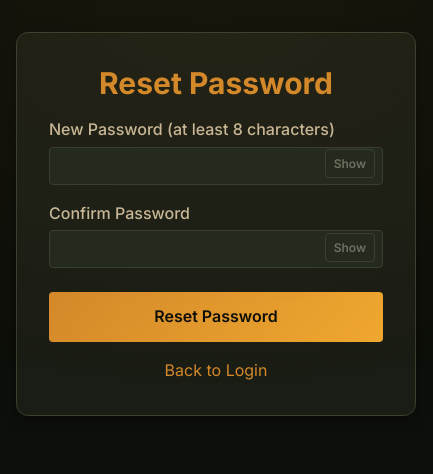
Test case: ResetPasswordForm › shows error for password mismatch
In the password field labelled "New Password (at least 8 characters) Show": (216, 166) [49,147,383,185], type "password123"
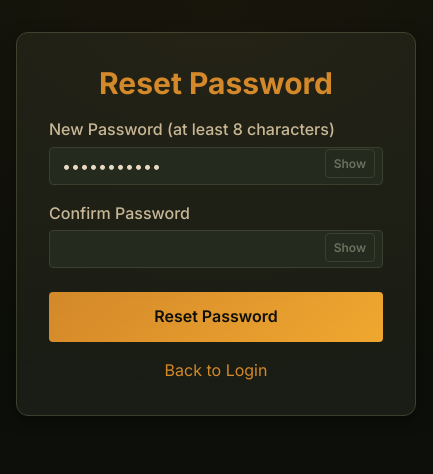
In the password field labelled "Confirm Password Show": (216, 249) [49,230,383,268], type "password456"
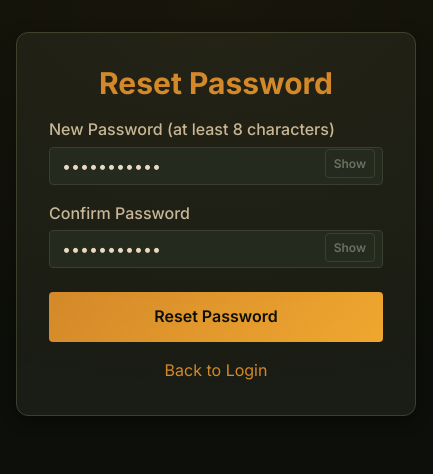
Click the button "Reset Password": (216, 317) [49,292,383,342]
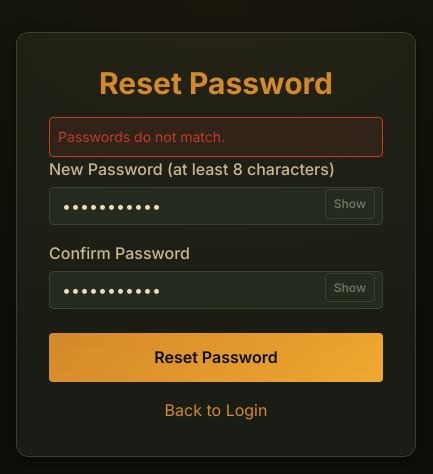
expect the message reads "Passwords do not match.": met, box [58,128,225,145]
